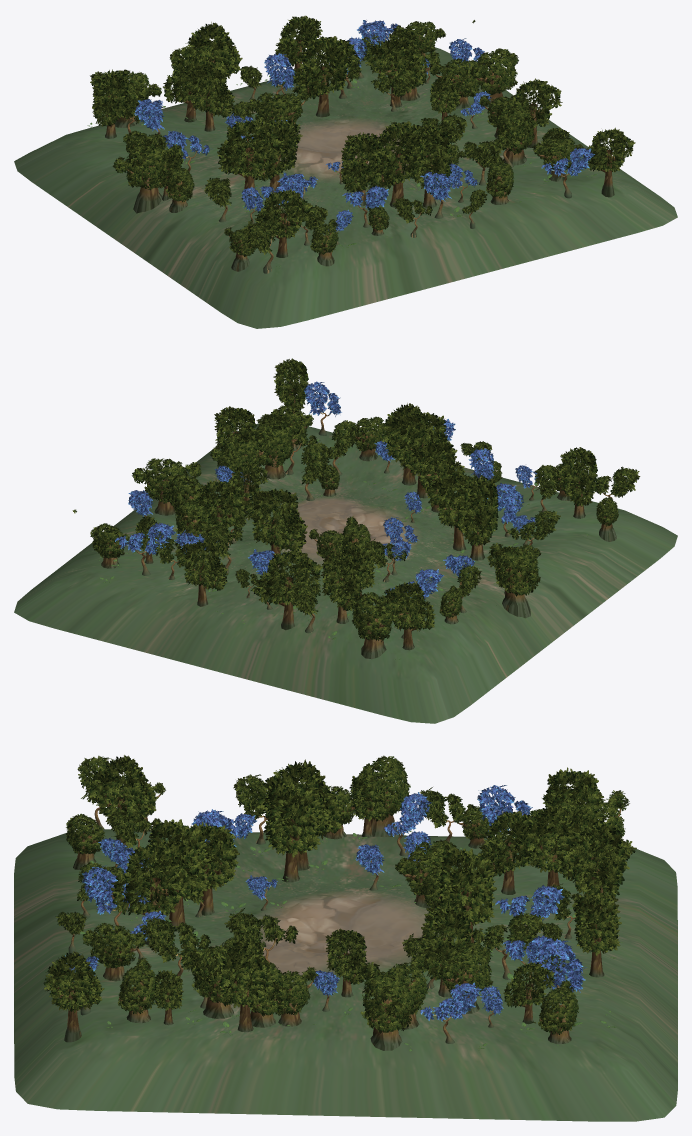
The model's file is terrain.glb.
3 renders of one model, top to bottom at view 1: azimuth 30°, elevation 25°; view 2: azimuth 150°, elevation 25°; view 3: azimuth 270°, elevation 25°, orthographic. The views are drawn at different scales.
Visible parts, largest first — view 1: Plane.002, SQUARE.007, SQUARE.011, SQUARE.013, BIG.008, SQUARE.016, SQUARE.004, SQUARE.012, SQUARE.019, SQUARE.009, SQUARE.014, SQUARE.002 (+39 smaller); view 2: Plane.002, SQUARE.007, SQUARE.013, SQUARE.002, BIG.008, SQUARE.011, SQUARE.009, SQUARE.005, SQUARE.018, SQUARE.012, BIG.004, BIG.006 (+34 smaller); view 3: Plane.002, SQUARE.016, SQUARE.002, SQUARE.014, BIG.006, SQUARE.007, SQUARE.017, SQUARE.012, SQUARE.015, SQUARE.019, SQUARE.011, SQUARE.013 (+44 smaller).
Boxes of the visible parts, x1,y1,x2,y2 form: Plane.002: (14,47,677,328); SQUARE.007: (292,36,355,117); SQUARE.011: (366,121,431,207); SQUARE.013: (217,118,284,199); BIG.008: (112,143,184,213); SQUARE.016: (405,125,452,207); SQUARE.004: (182,67,234,131); SQUARE.012: (254,188,312,257); SQUARE.019: (365,37,423,107); SQUARE.009: (92,69,129,138); SQUARE.014: (248,118,302,192); SQUARE.002: (183,22,242,90); Plane.002: (14,423,677,723); SQUARE.007: (241,488,307,569); SQUARE.013: (454,475,498,560); SQUARE.002: (256,548,323,630); BIG.008: (488,543,540,618); SQUARE.011: (386,412,457,498); SQUARE.009: (380,581,435,650); SQUARE.005: (174,541,228,606); SQUARE.018: (320,553,362,623); SQUARE.012: (558,447,597,518); BIG.004: (352,592,393,659); BIG.006: (132,458,201,515); Plane.002: (14,829,677,1121); SQUARE.016: (110,839,200,945); SQUARE.002: (564,818,625,909); SQUARE.014: (263,782,322,882); BIG.006: (360,962,414,1050); SQUARE.007: (440,848,496,954); SQUARE.017: (219,941,271,1032); SQUARE.012: (89,755,158,847); SQUARE.015: (43,951,104,1042); SQUARE.019: (420,902,472,997); SQUARE.011: (148,819,209,931); SQUARE.013: (257,759,344,870).
Size of the model in its own units: 465 by 128 by 464.
Materials: 9 (9 with a texture image).
